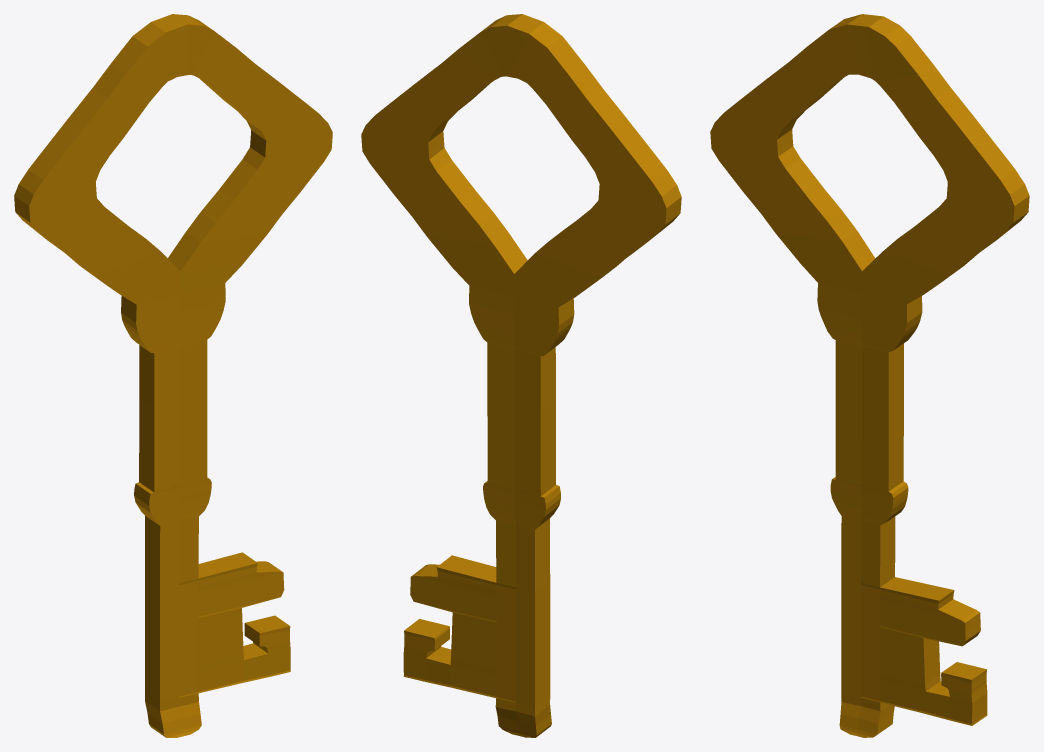
File: SM_KeyMesh.fbx
3 views of the same model, side by side, from view 1: azimuth 30°, elevation 25°; view 2: azimuth 150°, elevation 25°; view 3: azimuth 330°, elevation 25° (orthographic).
Visible parts, largest first — view 1: KeyMesh; view 2: KeyMesh; view 3: KeyMesh.
Part boxes in pixels (x1=…): KeyMesh: x1=14, y1=14, x2=332, y2=737; KeyMesh: x1=361, y1=14, x2=681, y2=737; KeyMesh: x1=710, y1=14, x2=1029, y2=737.
Bounding box in the file's own units: 42.05 × 93.66 × 4.58.
